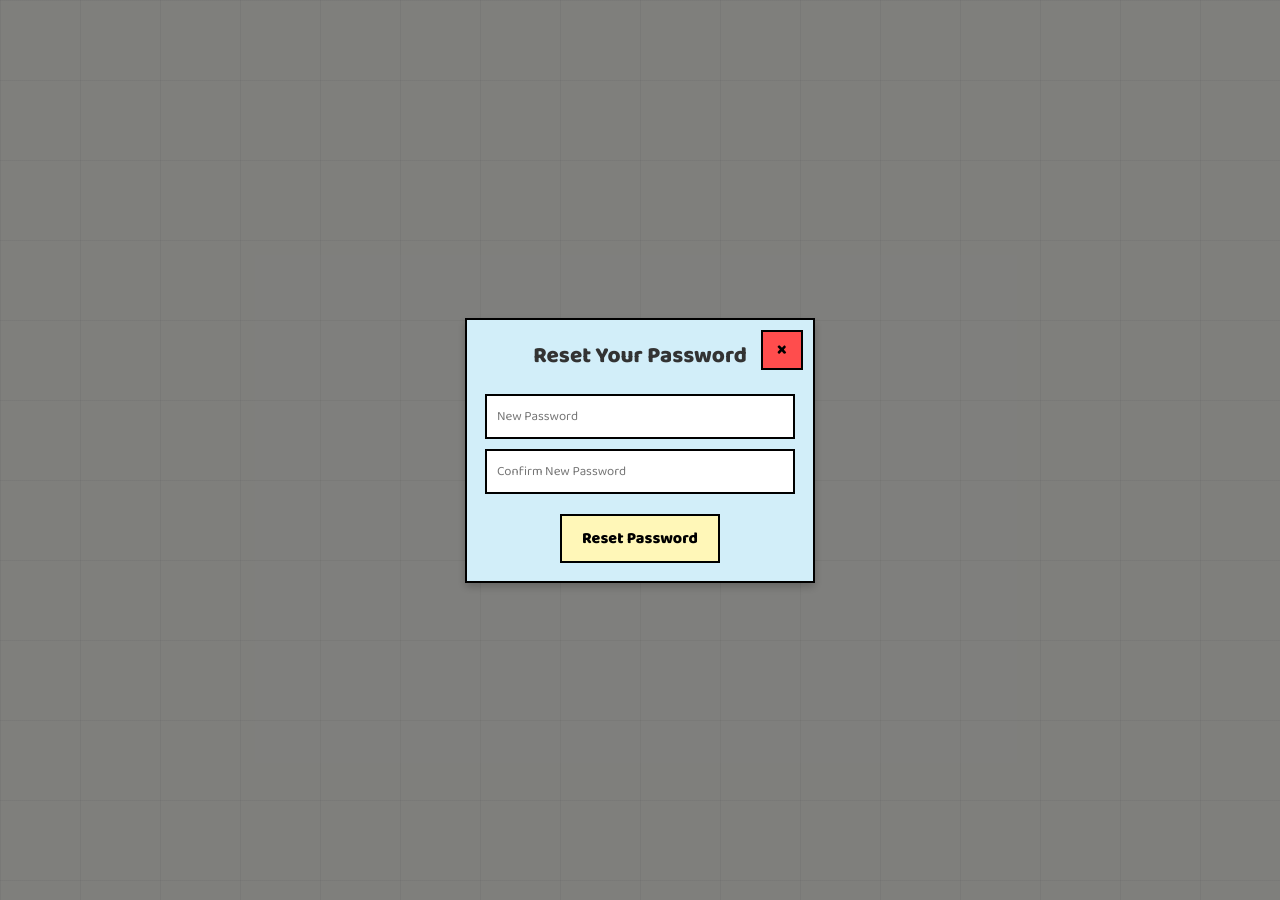
Scenario: ResetPassword Component › should display error for weak password
The width and height of the screenshot is (1280, 900).
Type "weak" into the password field with placeholder "New Password" at (640, 416), box [485,394,795,438]
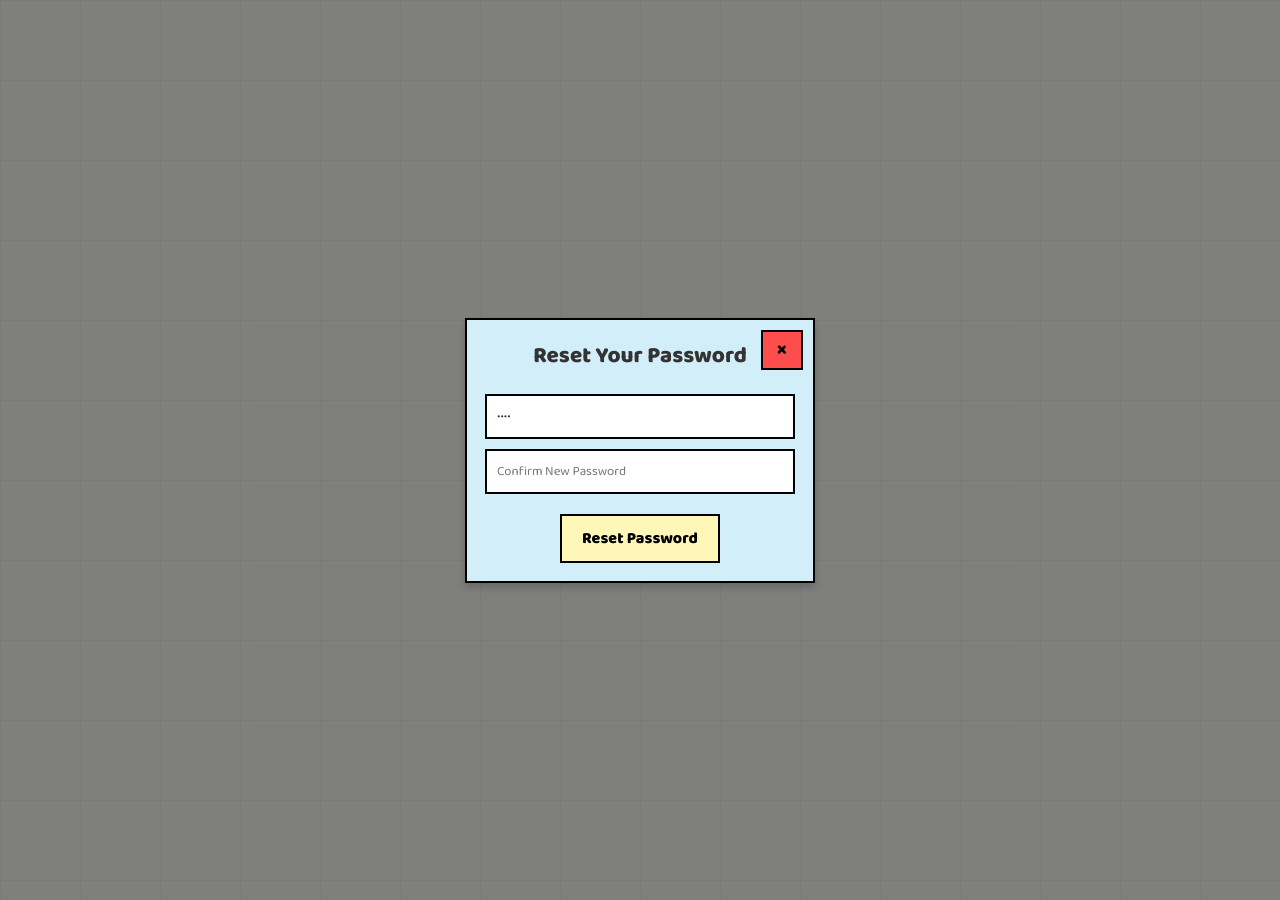
Type "weak" into the password field with placeholder "Confirm New Password" at (640, 471), box [485,448,795,494]
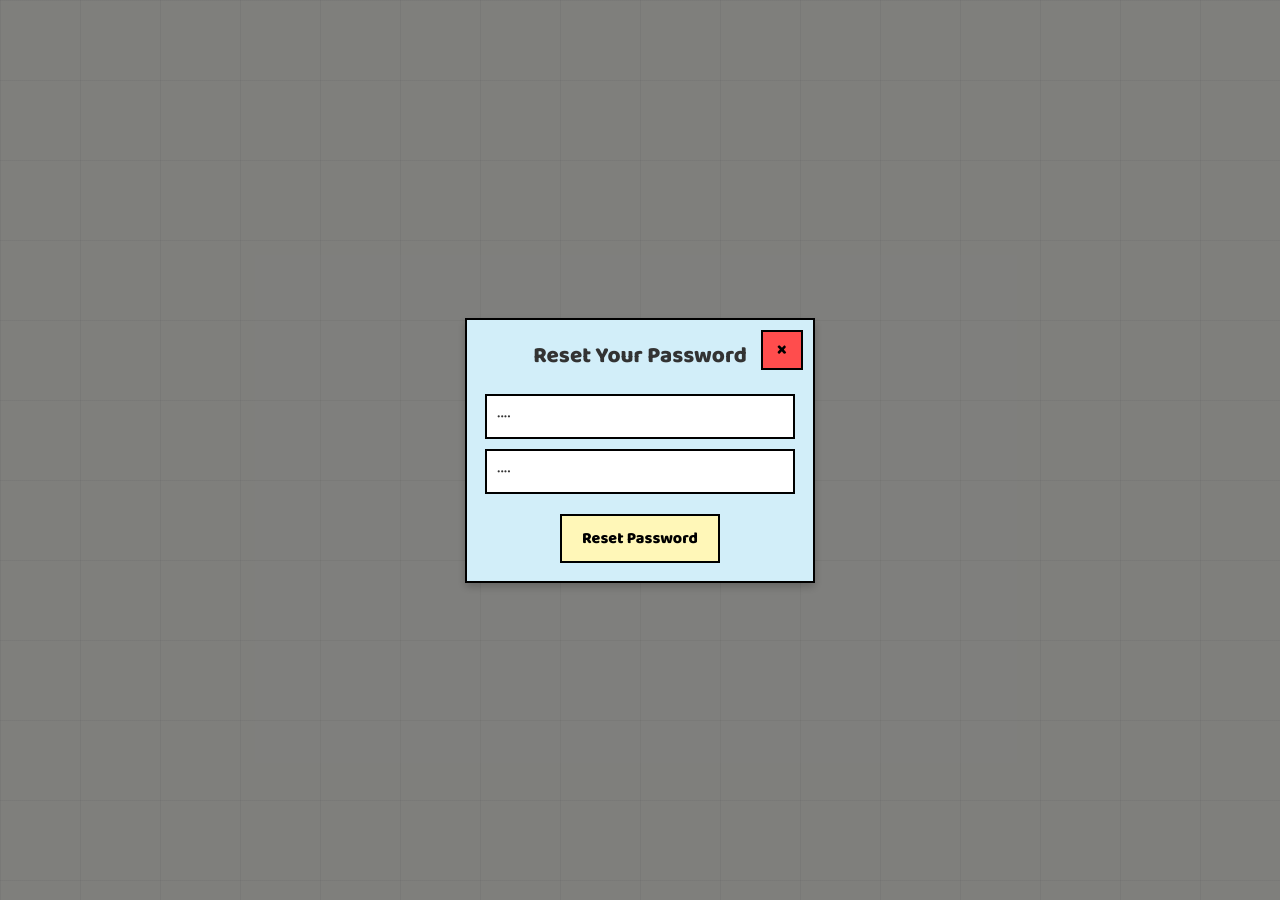
Click the button "Reset Password" at (640, 538), box [560,514,720,562]
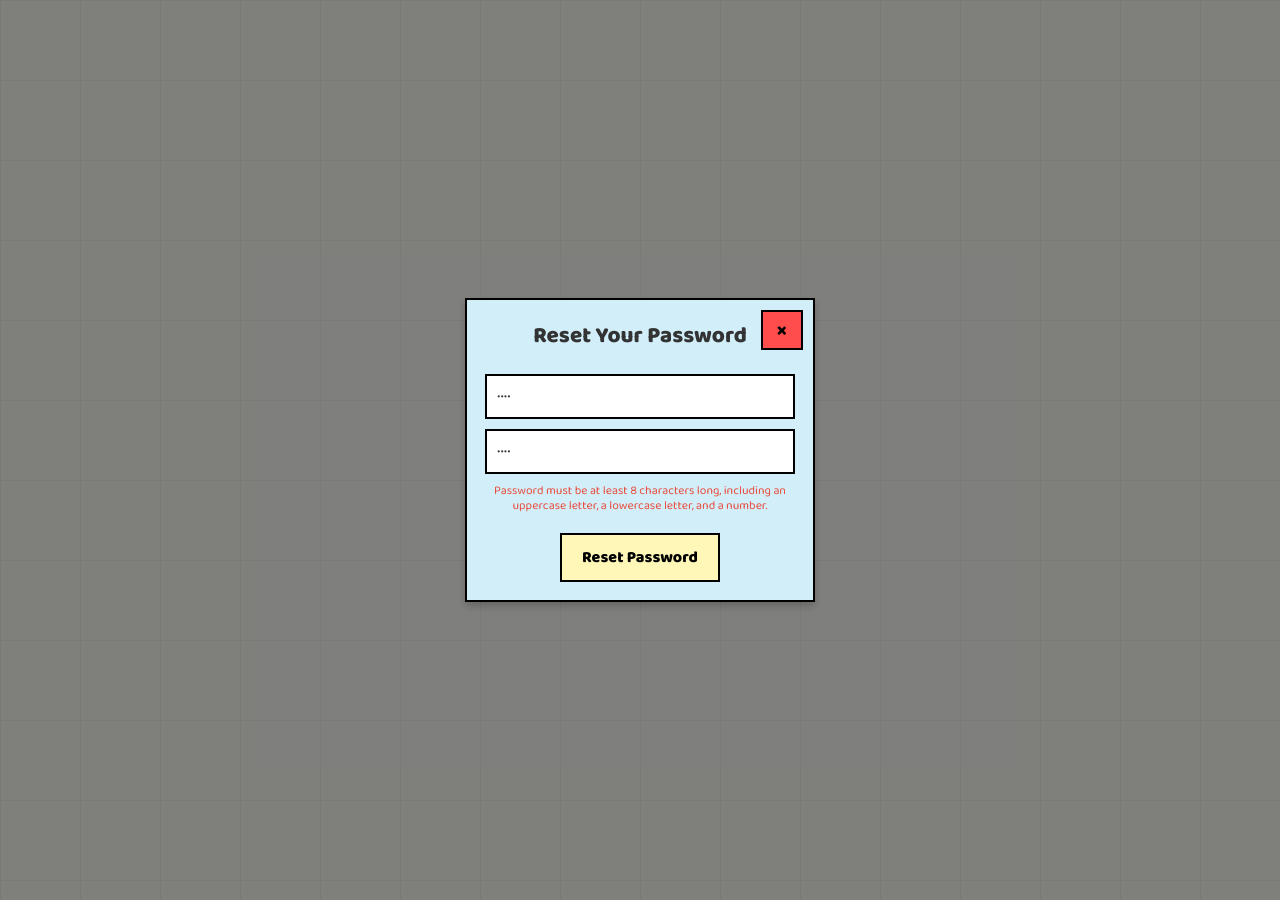
Expected: the text "Password must be at least 8 characters long, including an uppercase letter, a lowercase letter, and a number." is shown, [494,481,786,514]
